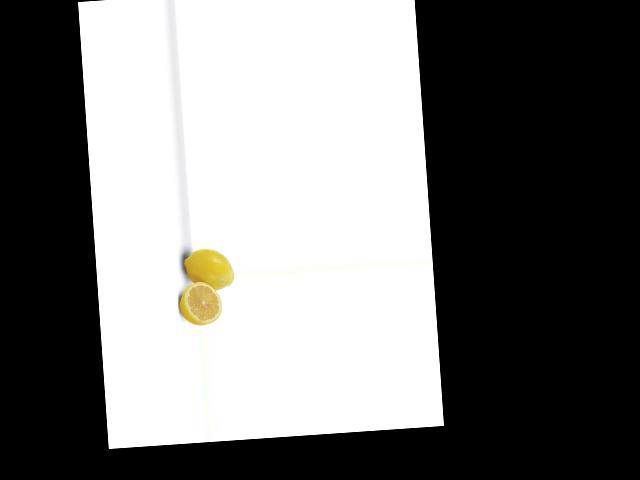lemon: (180, 243, 236, 294)
